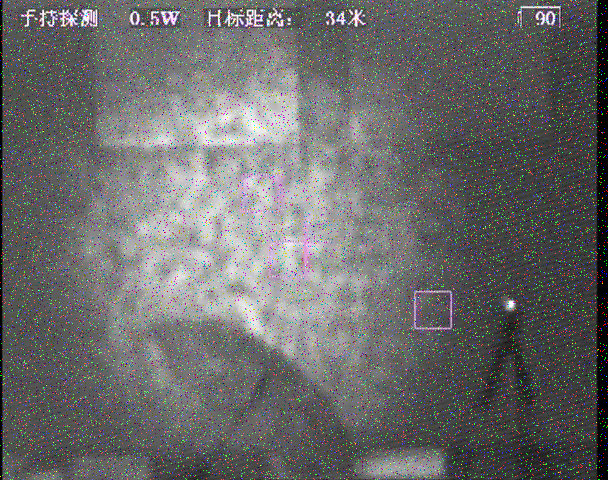my: (506, 298, 517, 309)
